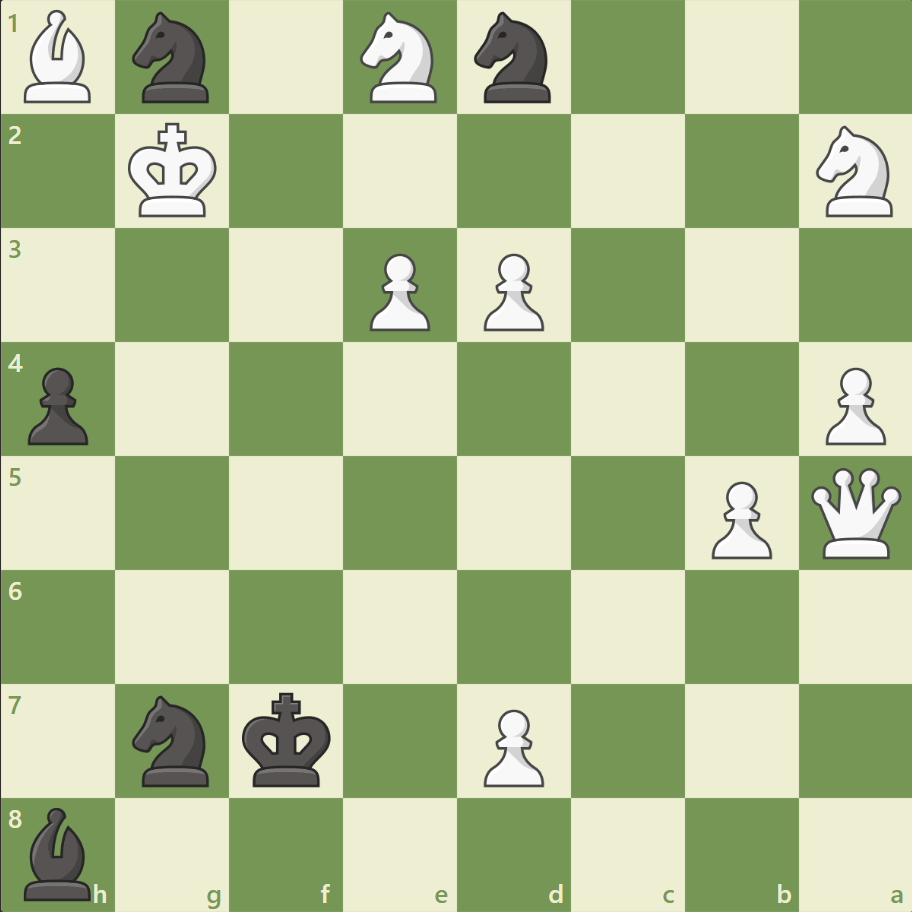B: (17, 6, 101, 109)
K: (124, 117, 224, 225)
N: (351, 7, 449, 110), (806, 121, 903, 223)
P: (474, 700, 549, 791), (701, 473, 776, 564), (474, 246, 549, 337), (815, 359, 889, 450), (361, 246, 435, 337)
Q: (805, 463, 904, 562)
b: (17, 801, 101, 904)
k: (238, 685, 338, 793)
n: (124, 688, 222, 791), (124, 7, 222, 110), (465, 7, 562, 110)
p: (20, 359, 95, 450)
